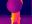Hotspot: (11, 13, 15, 23)
